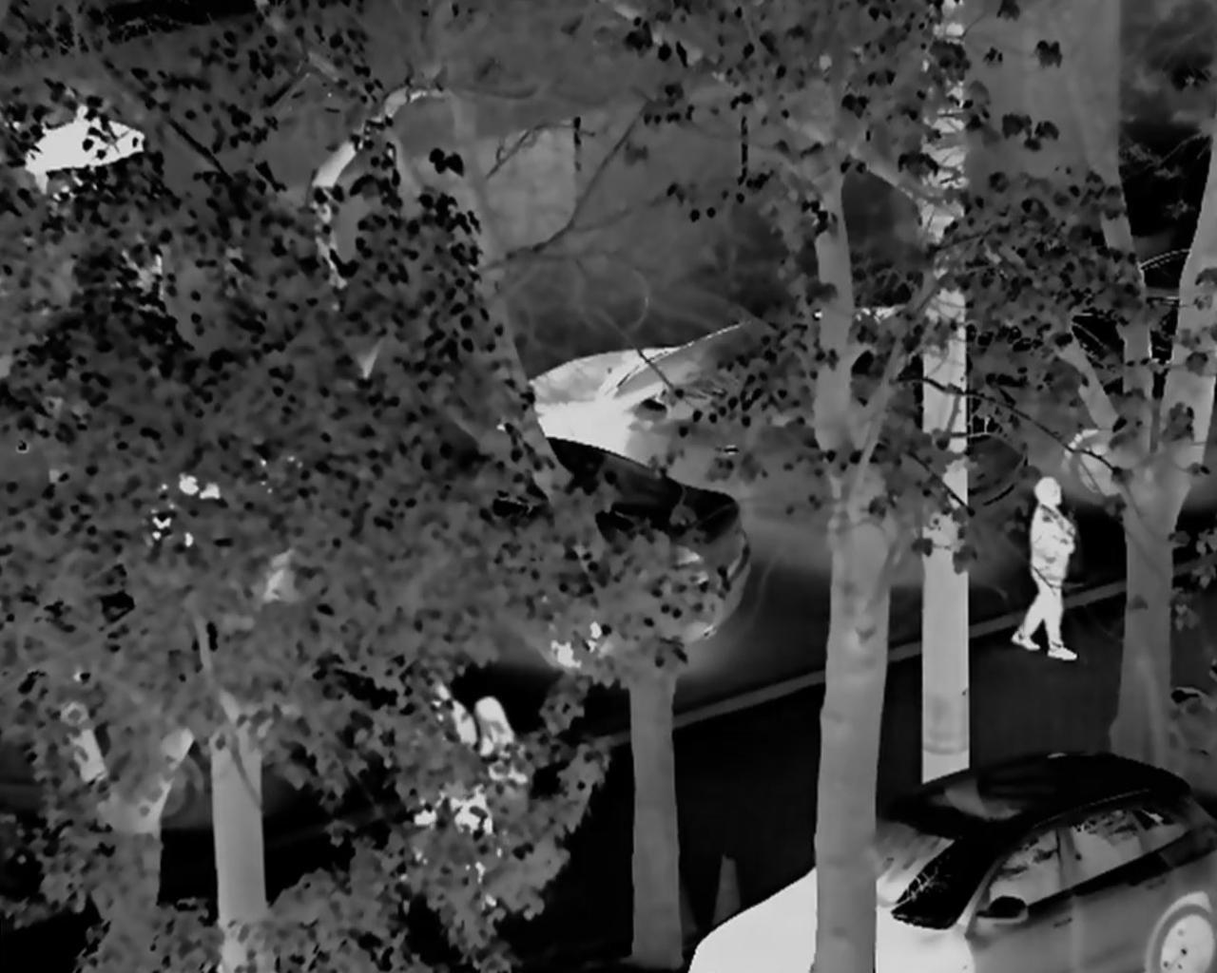person: (399, 664, 487, 860), (1011, 471, 1079, 677), (465, 698, 529, 888)
